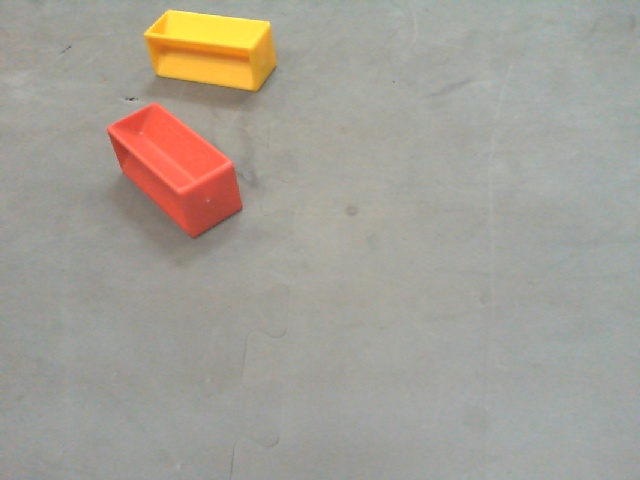RedSample: (106, 101, 245, 240)
YellowSample: (142, 8, 277, 94)
